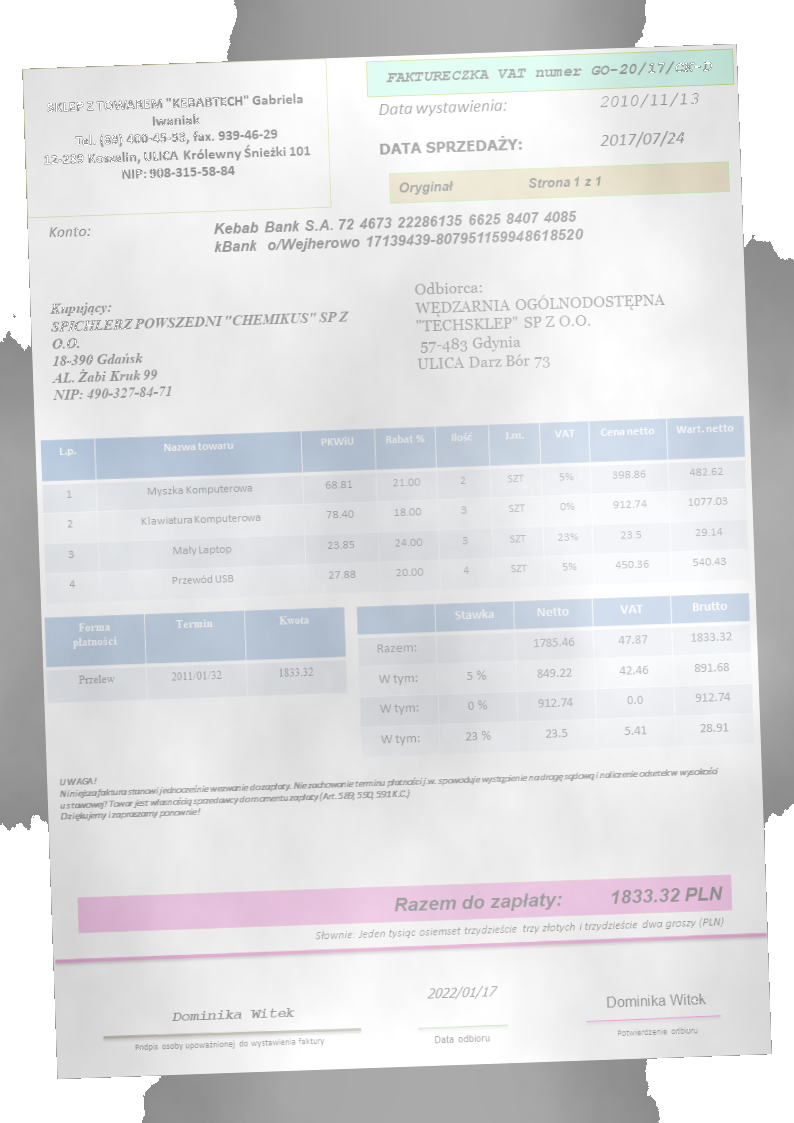Table: (37, 411, 752, 605), (353, 591, 756, 759), (43, 605, 347, 705)
TextBox: (55, 751, 720, 825), (47, 290, 355, 407), (411, 268, 671, 379), (39, 86, 316, 188), (209, 204, 587, 260), (313, 912, 729, 943), (389, 881, 727, 917), (382, 56, 719, 85), (394, 171, 605, 199), (131, 1034, 327, 1055), (376, 132, 525, 158), (376, 93, 508, 120), (168, 1004, 299, 1026), (603, 988, 711, 1011), (599, 88, 701, 110), (597, 127, 685, 151), (425, 979, 504, 1004), (615, 1022, 700, 1042), (44, 219, 96, 244), (429, 1031, 492, 1048)
